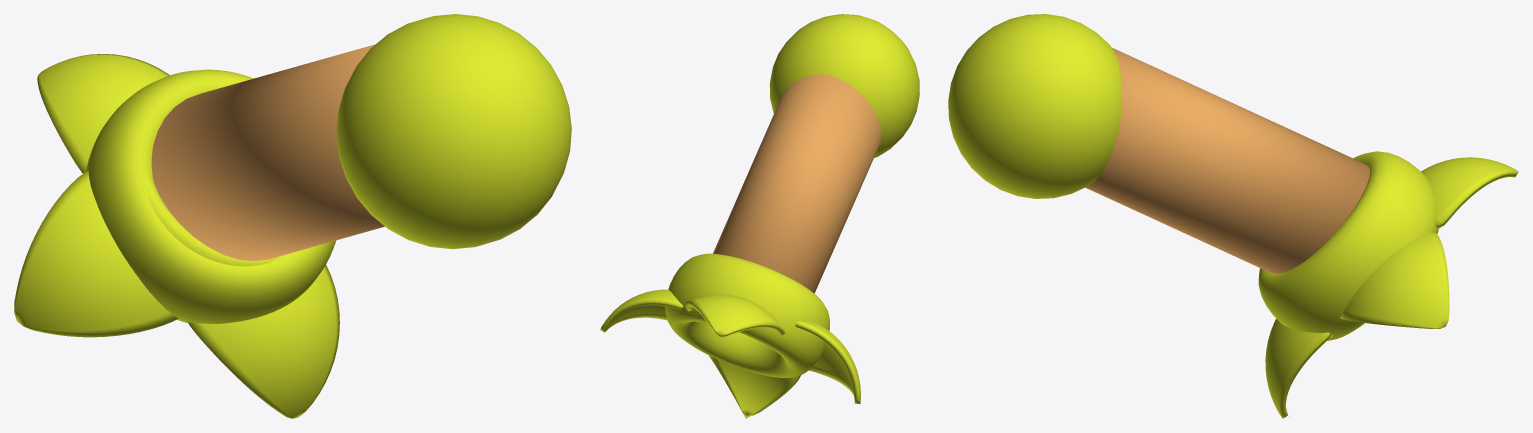
File: EATER.fbx
The picture shows the model from 3 angles, left to right: view 1: azimuth 30°, elevation 25°; view 2: azimuth 150°, elevation 25°; view 3: azimuth 270°, elevation 25°; orthographic projection. The views are drawn at different scales.
Parts seen in each view (by area): view 1: Sphere.003, Sphere, Cylinder, Sphere.001; view 2: Cylinder, Sphere.003, Sphere, Sphere.001; view 3: Cylinder, Sphere, Sphere.003, Sphere.001.
Boxes of the visible parts, x1,y1,x2,y2 form: Sphere.003: (14, 69, 339, 418); Sphere: (336, 14, 571, 249); Cylinder: (151, 44, 384, 261); Sphere.001: (37, 54, 280, 266); Cylinder: (713, 74, 881, 293); Sphere.003: (665, 253, 860, 415); Sphere: (769, 14, 919, 157); Sphere.001: (600, 289, 785, 337); Cylinder: (1085, 47, 1370, 274); Sphere: (948, 14, 1122, 198); Sphere.003: (1258, 151, 1437, 418); Sphere.001: (1340, 157, 1518, 328).
Size of what is drawn, in the model's own units: 353 by 473 by 616.
